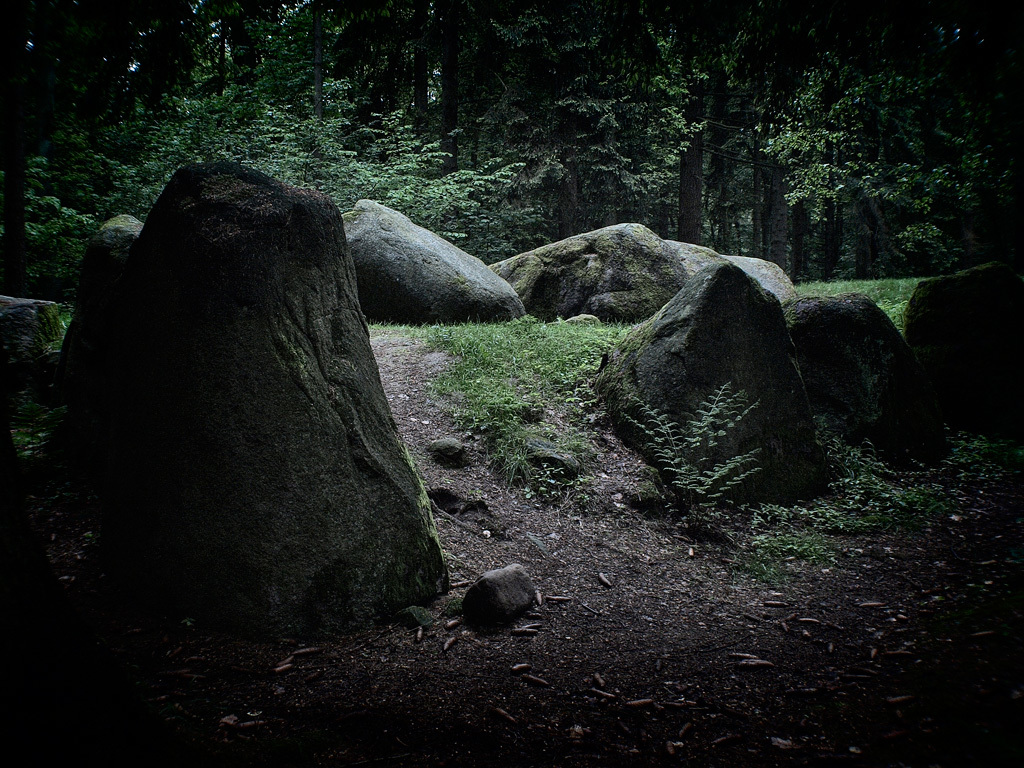Tree: (1, 0, 1022, 285)
